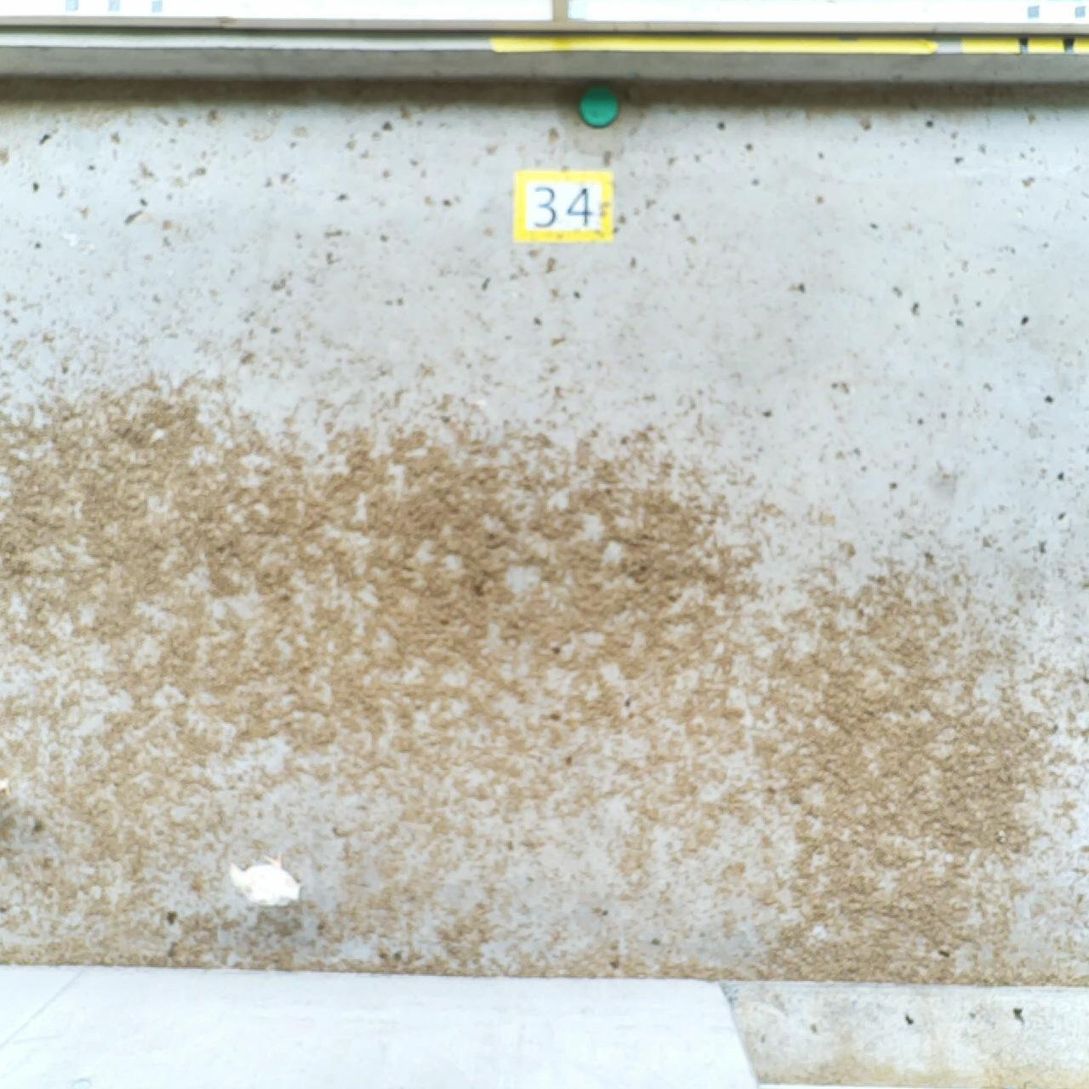chicken: (221, 847, 301, 919)
